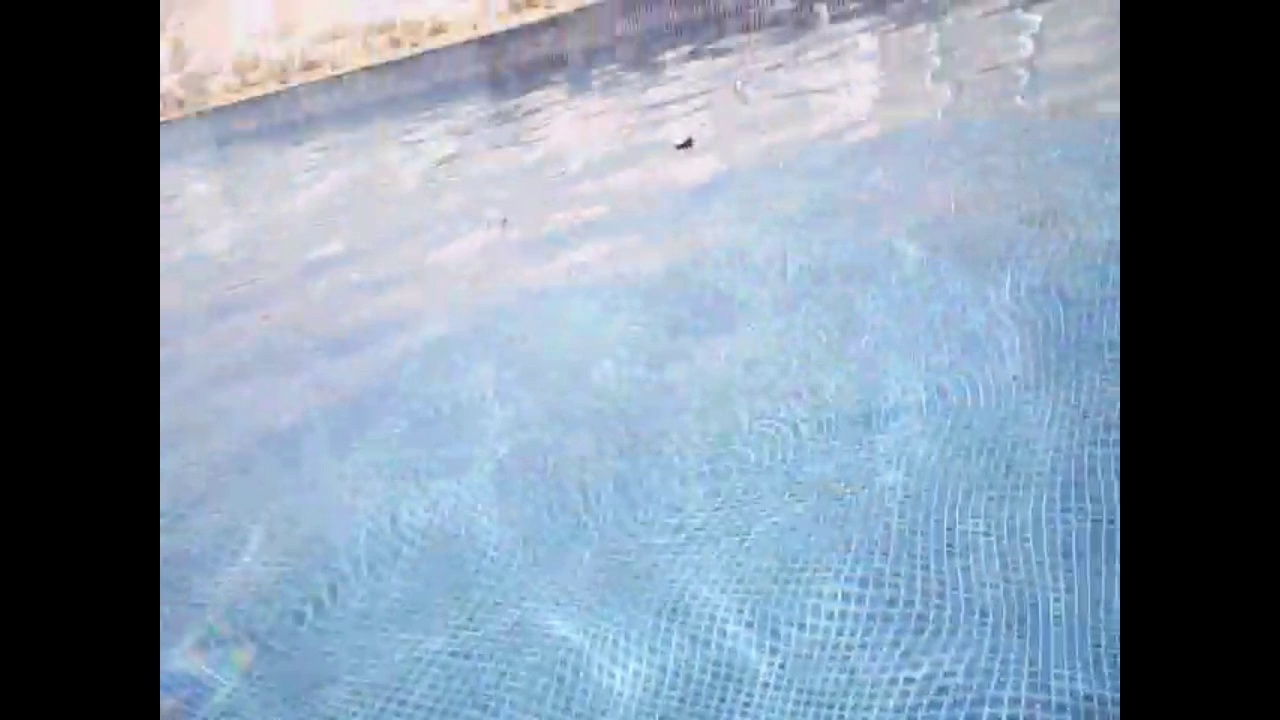debris: (479, 203, 510, 236), (665, 129, 699, 156)
